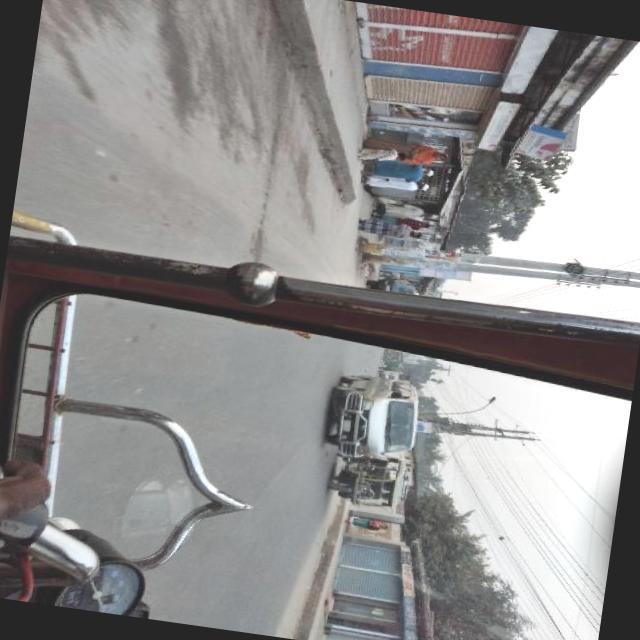car: (363, 276, 419, 299)
motorcycle: (324, 448, 415, 514), (380, 351, 398, 362)
truck: (324, 371, 425, 466), (376, 368, 399, 382)
